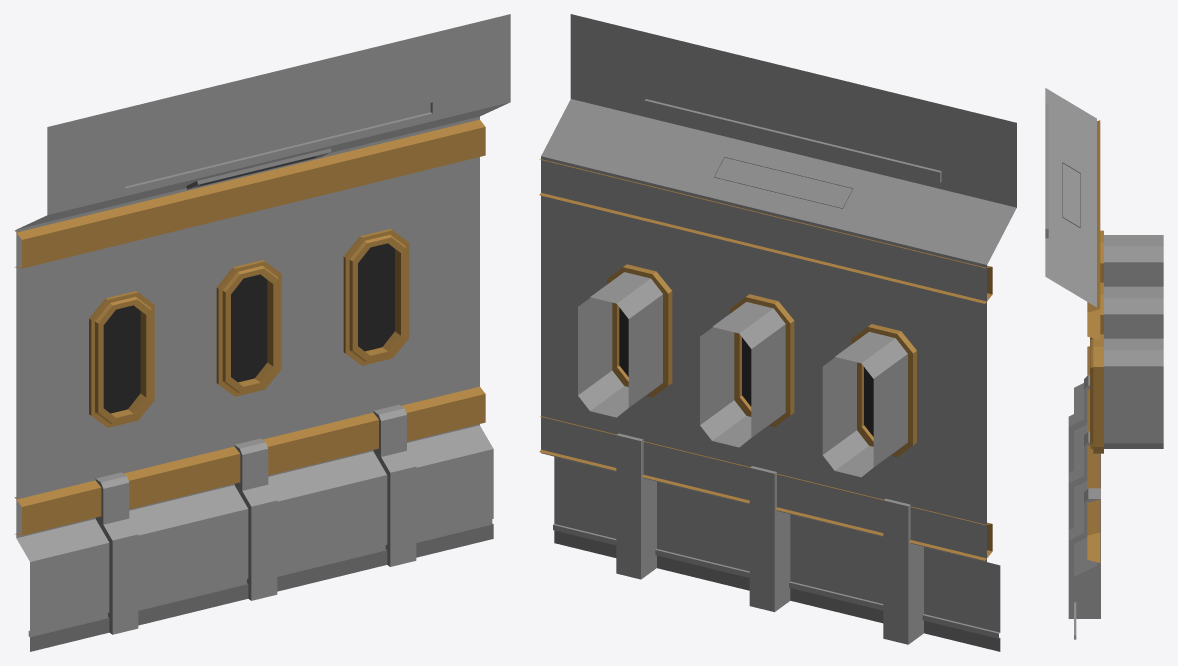
File: threewindows-wall-sidea-c3de9824c4.glb
The picture shows the model from 3 angles, left to right: view 1: azimuth 30°, elevation 25°; view 2: azimuth 150°, elevation 25°; view 3: azimuth 270°, elevation 25°; orthographic projection. The views are drawn at different scales.
Visible parts, largest first — view 1: ThreeWindows_Wall_SideA.obj; view 2: ThreeWindows_Wall_SideA.obj; view 3: ThreeWindows_Wall_SideA.obj.
Boxes of the visible parts, box(x1,y1,x2,y2) form: ThreeWindows_Wall_SideA.obj: box(14, 14, 510, 651); ThreeWindows_Wall_SideA.obj: box(539, 14, 1016, 651); ThreeWindows_Wall_SideA.obj: box(1045, 88, 1163, 639).
Bounding box in the file's own units: 4 × 4.43 × 1.06.
